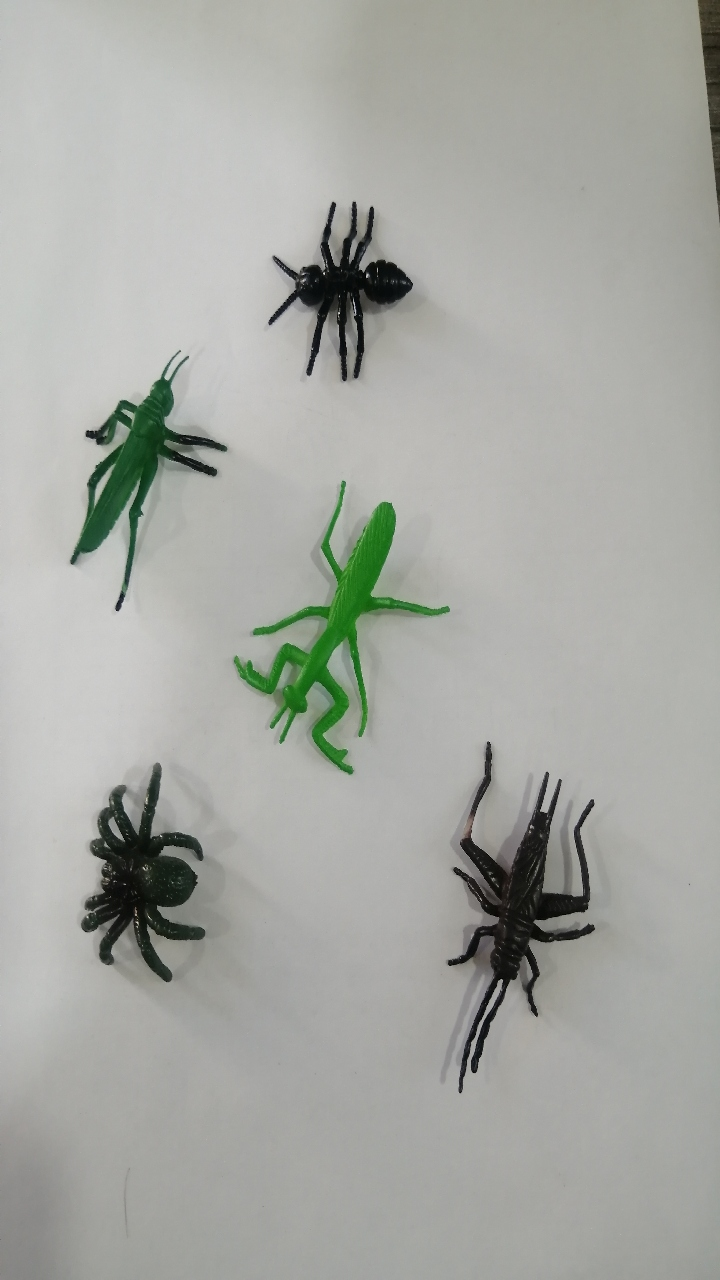intruso: (215, 463, 455, 809), (431, 702, 617, 1148), (41, 335, 243, 597), (51, 737, 234, 1002), (241, 169, 434, 409)
